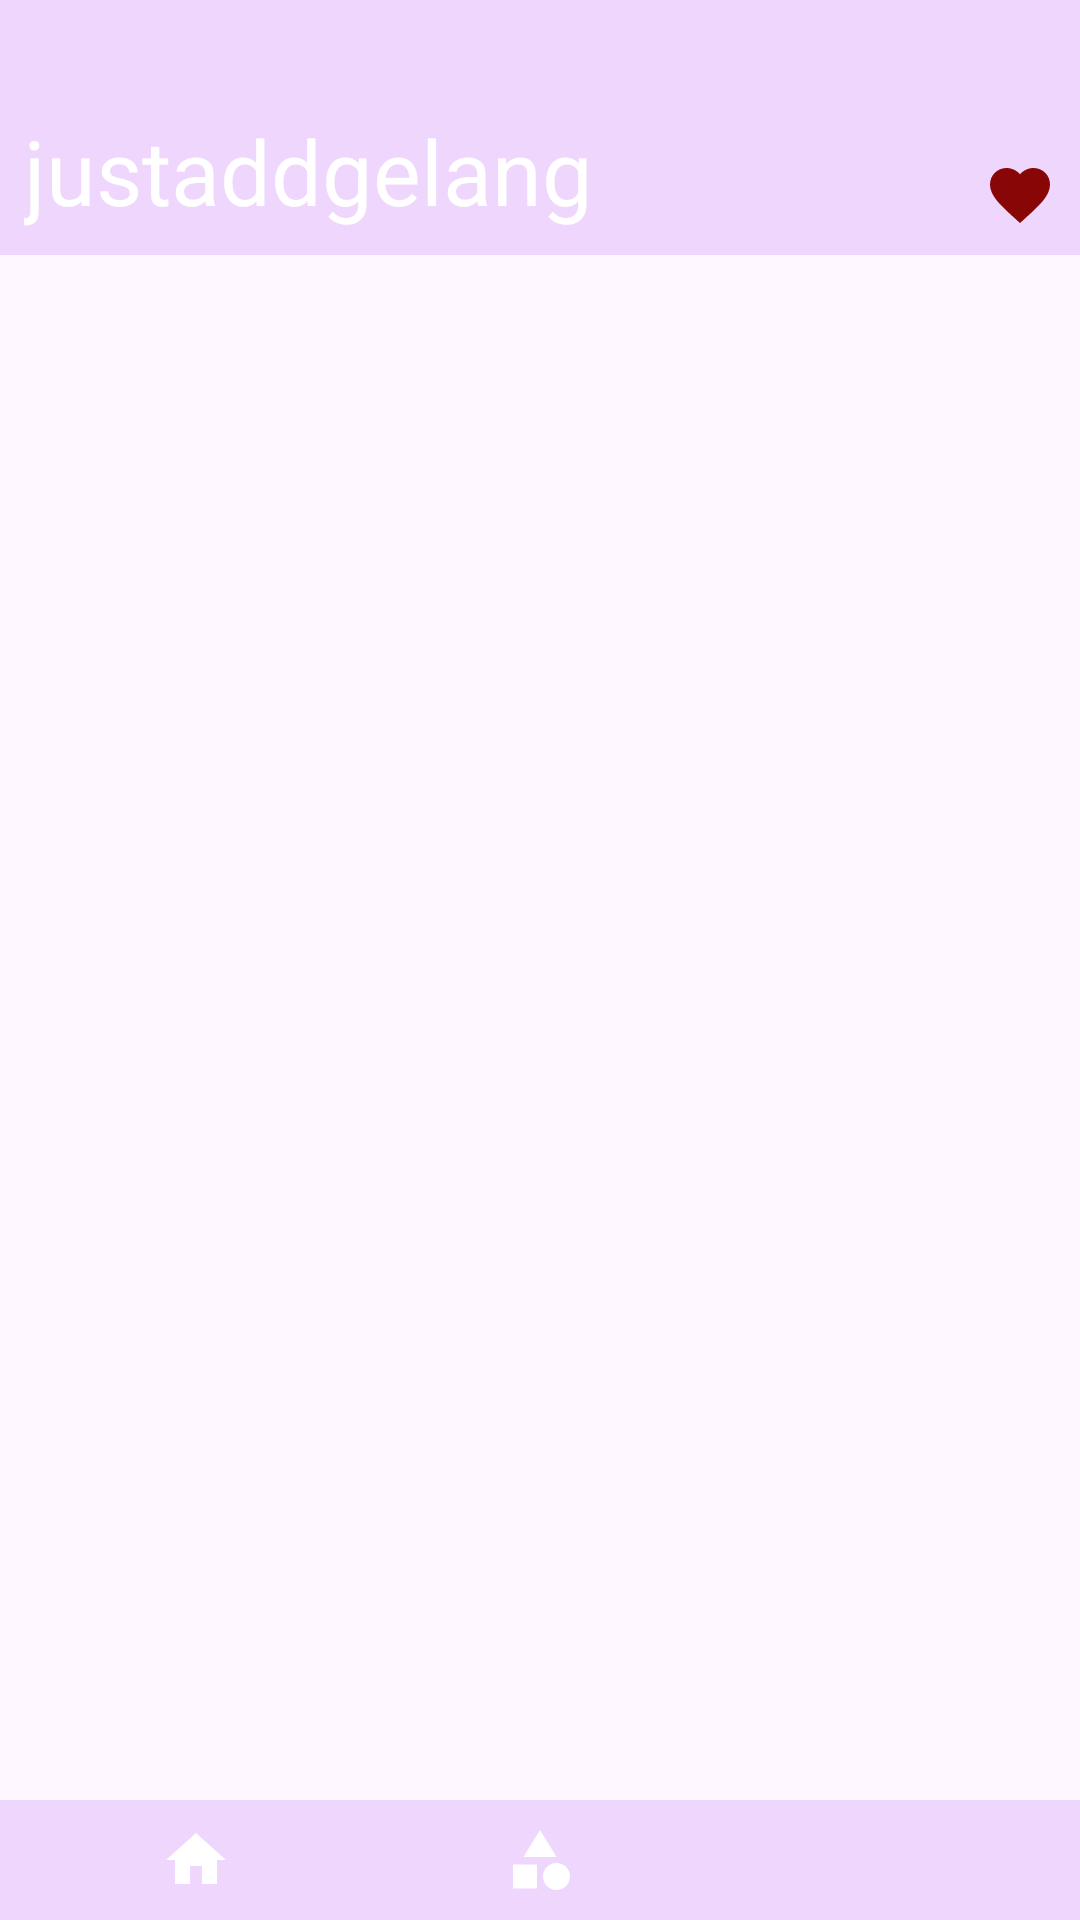

Where icons sit on this 1080*1920 app screen, as [x1,y1,x2,y2]:
category: [513,1831,570,1890]
favorite: [990,168,1050,223]
home: [167,1834,225,1884]
